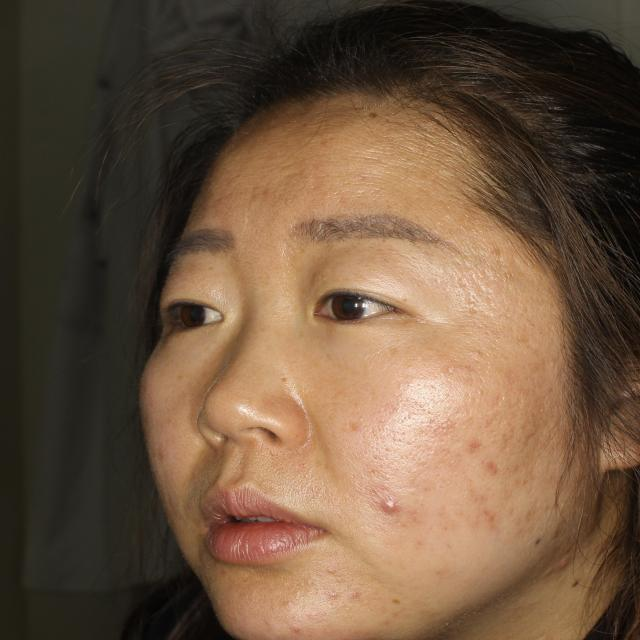acne: (481, 499, 514, 543), (516, 496, 550, 535), (385, 489, 409, 532), (472, 455, 505, 479), (541, 555, 573, 579), (453, 432, 479, 455)
